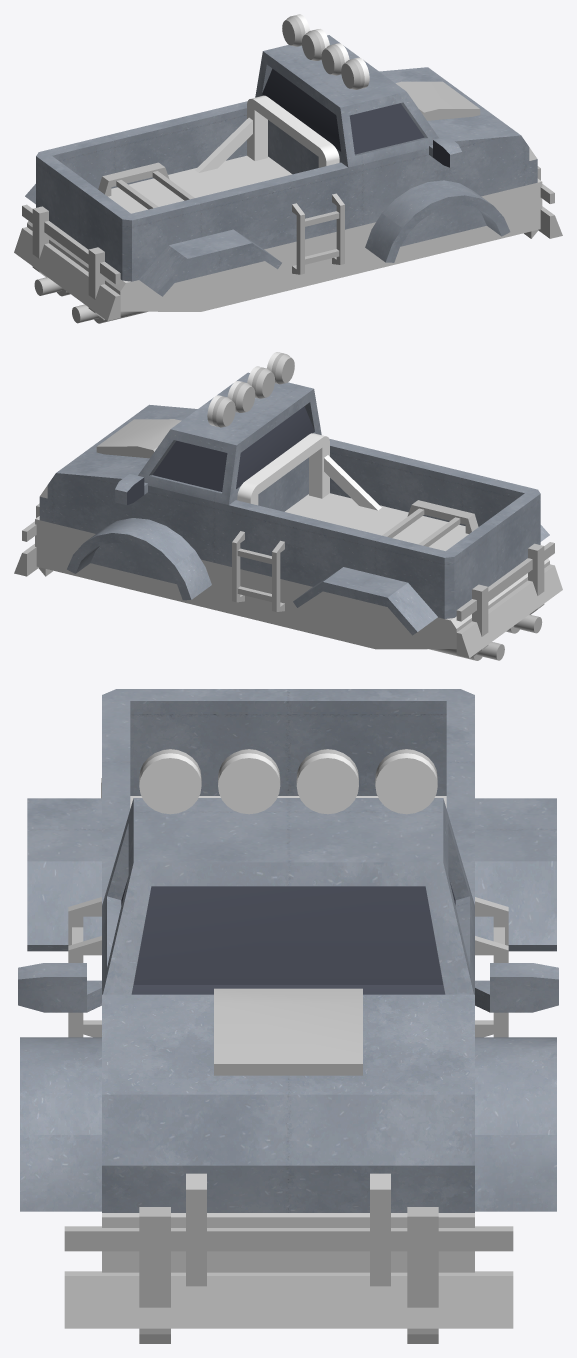
Rendered from PickupTruck.model.fbx.
3 views of the same model, one above another, from view 1: azimuth 30°, elevation 25°; view 2: azimuth 150°, elevation 25°; view 3: azimuth 270°, elevation 25° (orthographic). The views are drawn at different scales.
Parts seen in each view (by area): view 1: windshield_truck_3, trunk_bed_4, hood_default_2, detail_fender_12, detail_bullbar_13, detail_fenderSquare_11, detail_rollbar_18, detail_roofLights%_6, detail_convertibleDown%_14, detail_roofDoubleRails%_24, detail_roofDoubleRails%_17, detail_bullbar_16 (+3 smaller); view 2: windshield_truck_3, trunk_bed_4, hood_default_2, detail_fender_7, detail_bullbar_13, detail_rollbar_18, detail_fenderSquare_9, detail_roofLights%_6, detail_convertibleDown%_14, detail_roofDoubleRails%_23, detail_roofDoubleRails%_17, detail_bullbar_16 (+3 smaller); view 3: hood_default_2, windshield_truck_3, detail_bullbar_16, trunk_bed_4, detail_fender_7, detail_fender_12, detail_roofLights%_6, detail_convertibleDown%_14, detail_fenderSquare_9, detail_fenderSquare_11, detail_roofRails%_15, detail_mirror_19 (+3 smaller).
Part boxes in pixels (<box>): windshield_truck_3: <box>189,35,443,291</box>; trunk_bed_4: <box>27,115,281,311</box>; hood_default_2: <box>379,67,542,252</box>; detail_fender_12: <box>365,180,510,262</box>; detail_bullbar_13: <box>14,204,120,320</box>; detail_fenderSquare_11: <box>139,229,281,296</box>; detail_rollbar_18: <box>195,95,339,172</box>; detail_roofLights%_6: <box>282,14,369,89</box>; detail_convertibleDown%_14: <box>395,81,480,120</box>; detail_roofDoubleRails%_24: <box>292,193,344,274</box>; detail_roofDoubleRails%_17: <box>98,162,194,209</box>; detail_bullbar_16: <box>524,166,562,238</box>; windshield_truck_3: <box>133,372,387,629</box>; trunk_bed_4: <box>295,453,549,649</box>; hood_default_2: <box>35,404,197,589</box>; detail_fender_7: <box>67,518,211,600</box>; detail_bullbar_13: <box>456,542,562,658</box>; detail_rollbar_18: <box>237,433,381,510</box>; detail_fenderSquare_9: <box>293,567,437,635</box>; detail_roofLights%_6: <box>207,352,294,427</box>; detail_convertibleDown%_14: <box>96,419,181,458</box>; detail_roofDoubleRails%_23: <box>232,531,284,611</box>; detail_roofDoubleRails%_17: <box>382,500,478,546</box>; detail_bullbar_16: <box>14,503,52,576</box>; hood_default_2: <box>102,994,474,1272</box>; windshield_truck_3: <box>102,798,474,994</box>; detail_bullbar_16: <box>64,1207,513,1343</box>; trunk_bed_4: <box>102,689,474,841</box>; detail_fender_7: <box>475,1037,556,1211</box>; detail_fender_12: <box>20,1037,101,1211</box>; detail_roofLights%_6: <box>139,749,437,814</box>; detail_convertibleDown%_14: <box>214,988,362,1075</box>; detail_fenderSquare_9: <box>475,798,556,951</box>; detail_fenderSquare_11: <box>27,798,101,951</box>; detail_roofRails%_15: <box>186,1173,390,1286</box>; detail_mirror_19: <box>475,963,558,1012</box>.
Bounding box in the file's own units: 27.8 × 12.66 × 14.5.
